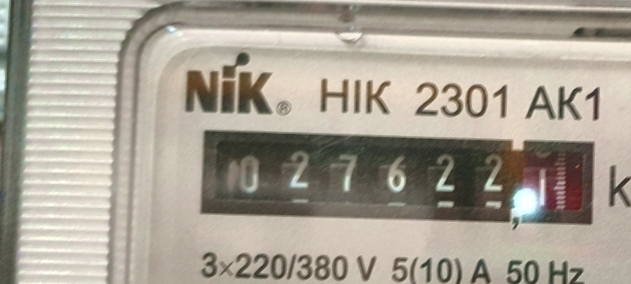0: (237, 151, 263, 195)
1: (534, 165, 552, 208)
2: (432, 151, 459, 193), (288, 148, 313, 191), (482, 151, 507, 193)
6: (385, 152, 409, 194)
7: (336, 151, 361, 196)
screen: (189, 115, 610, 237)
